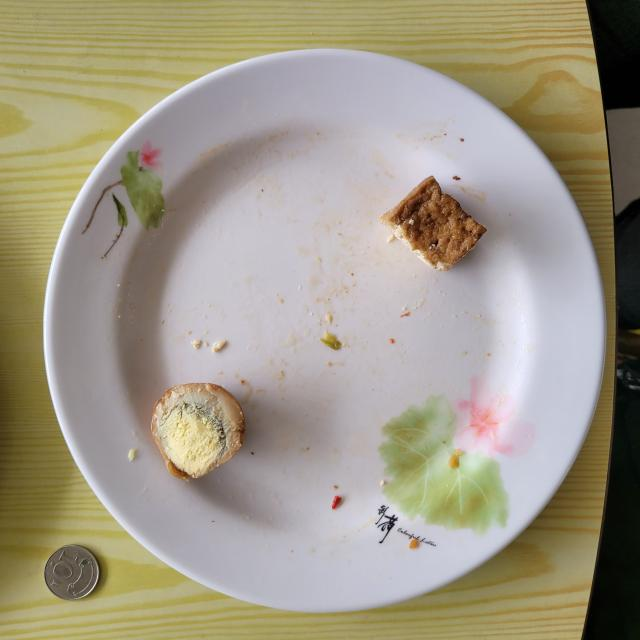coin: (44, 545, 99, 600)
egg tofu: (380, 176, 486, 270)
soy egg: (151, 382, 245, 480)
